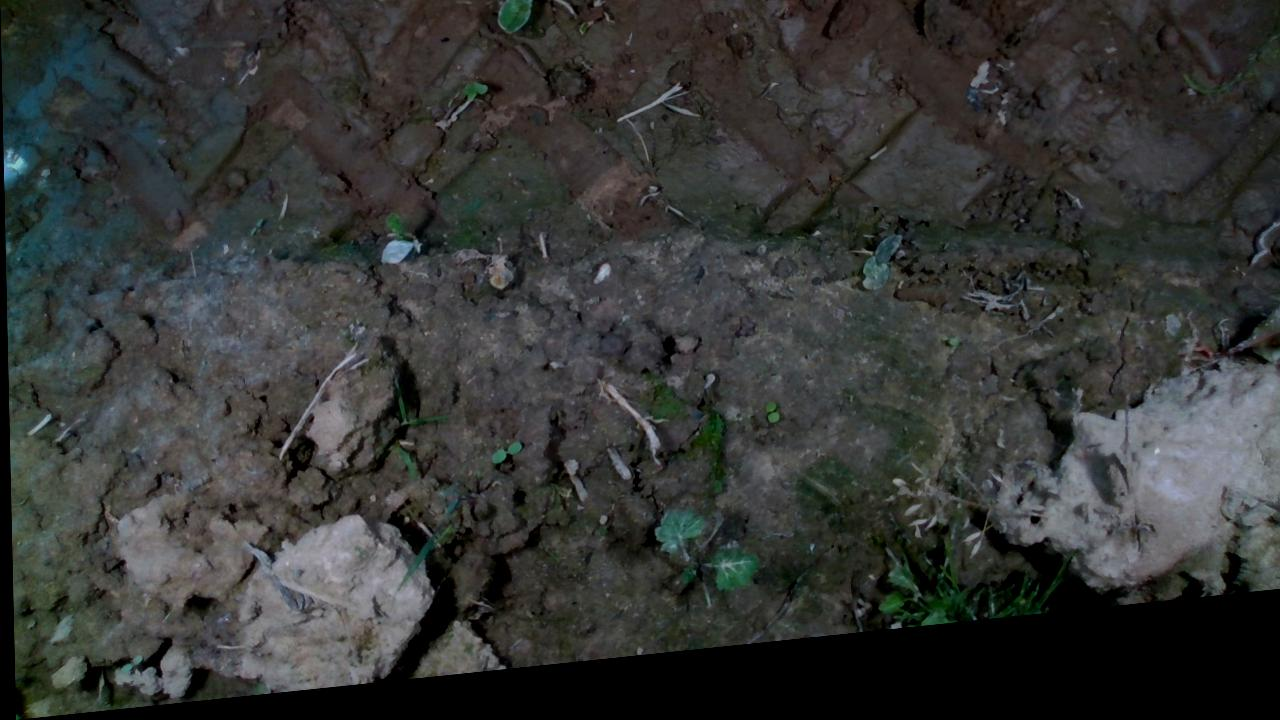weed: (758, 412, 777, 443)
